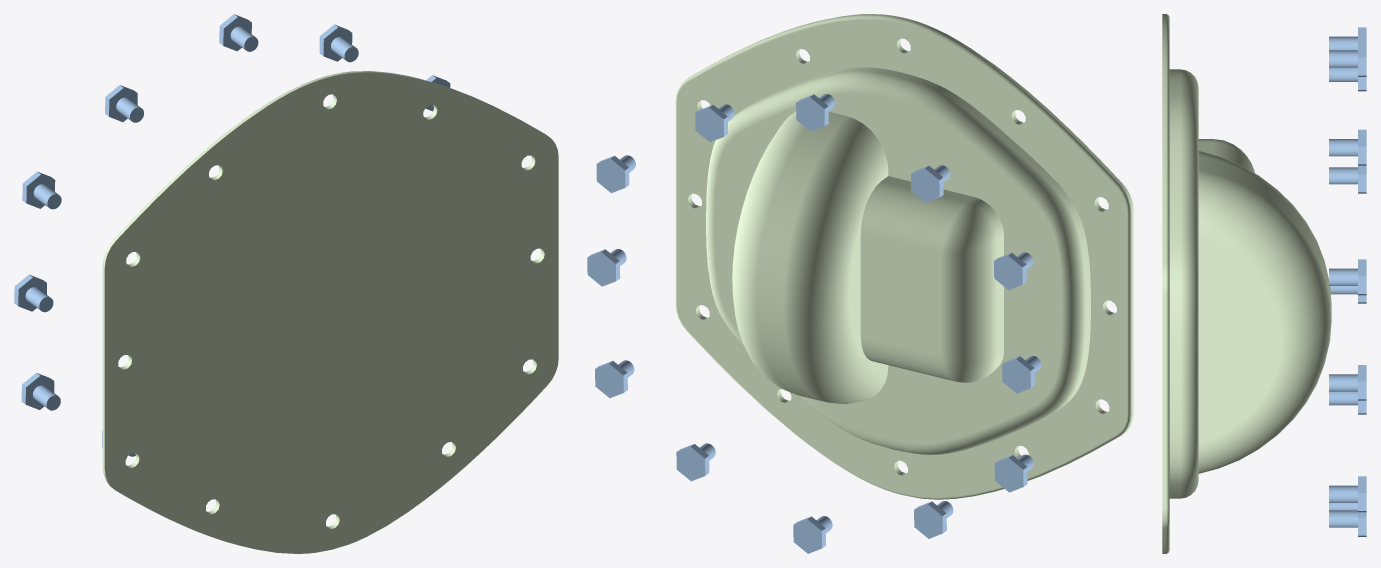
File: Differential cover expanded.gltf
The picture shows the model from 3 angles, left to right: view 1: azimuth 30°, elevation 25°; view 2: azimuth 150°, elevation 25°; view 3: azimuth 270°, elevation 25°; orthographic projection. The views are drawn at different scales.
Visible parts, largest first — view 1: Cover, Bolts (×6); view 2: Cover, Bolts (×12); view 3: Cover, Bolts (×11).
Part boxes in pixels (bbox=[...]): Cover: bbox=[102, 71, 558, 553]; Bolts (×6): bbox=[14, 14, 358, 410]; Cover: bbox=[675, 14, 1133, 499]; Bolts (×12): bbox=[587, 94, 1041, 553]; Cover: bbox=[1162, 14, 1331, 553]; Bolts (×11): bbox=[1329, 27, 1366, 536].
Bounding box in the file's own units: 38.3 × 38.16 × 14.09.
